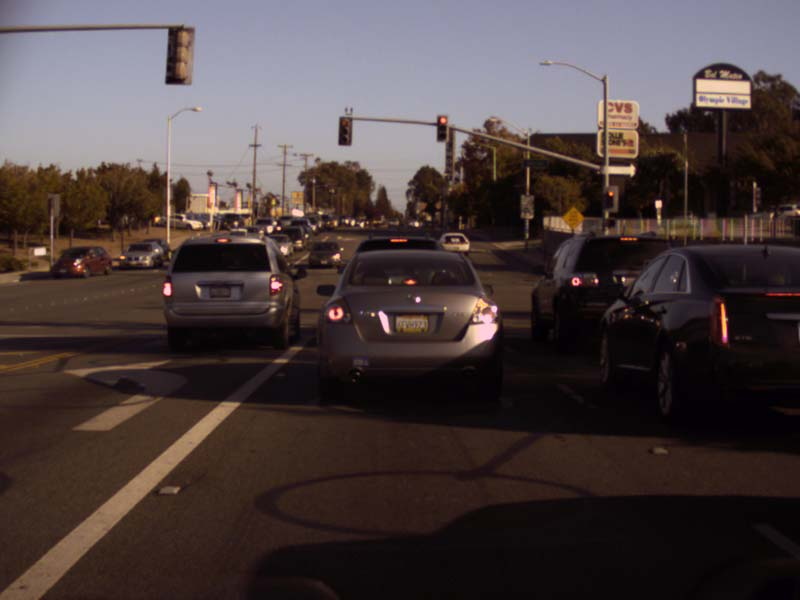Red: (339, 116, 351, 143), (437, 115, 446, 142), (607, 190, 613, 207)
